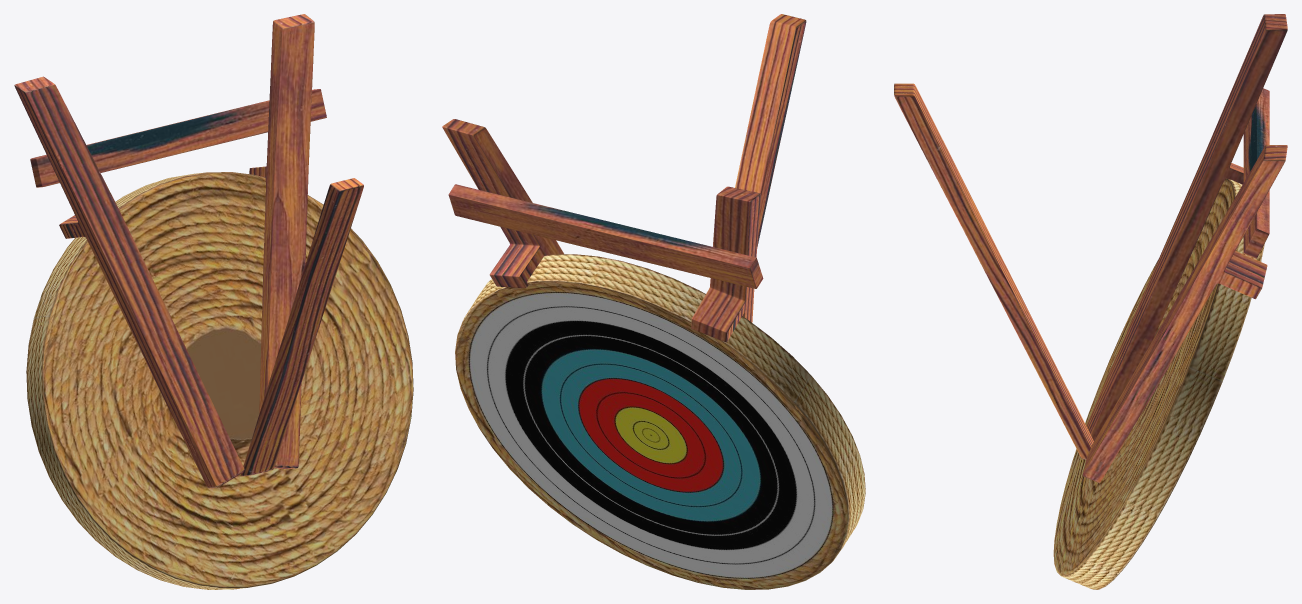
Rendered from Hacha_Diana.obj.
3 renders of one model, left to right at view 1: azimuth 30°, elevation 25°; view 2: azimuth 150°, elevation 25°; view 3: azimuth 270°, elevation 25°, orthographic. The views are drawn at different scales.
Visible parts, largest first — view 1: 10480_archery_target; view 2: 10480_archery_target; view 3: 10480_archery_target.
Boxes of the visible parts, <box> form: 10480_archery_target: <box>14,14,413,589</box>; 10480_archery_target: <box>442,14,865,589</box>; 10480_archery_target: <box>894,14,1287,589</box>.
Size of the model in its own units: 20.67 by 25.42 by 18.85.
